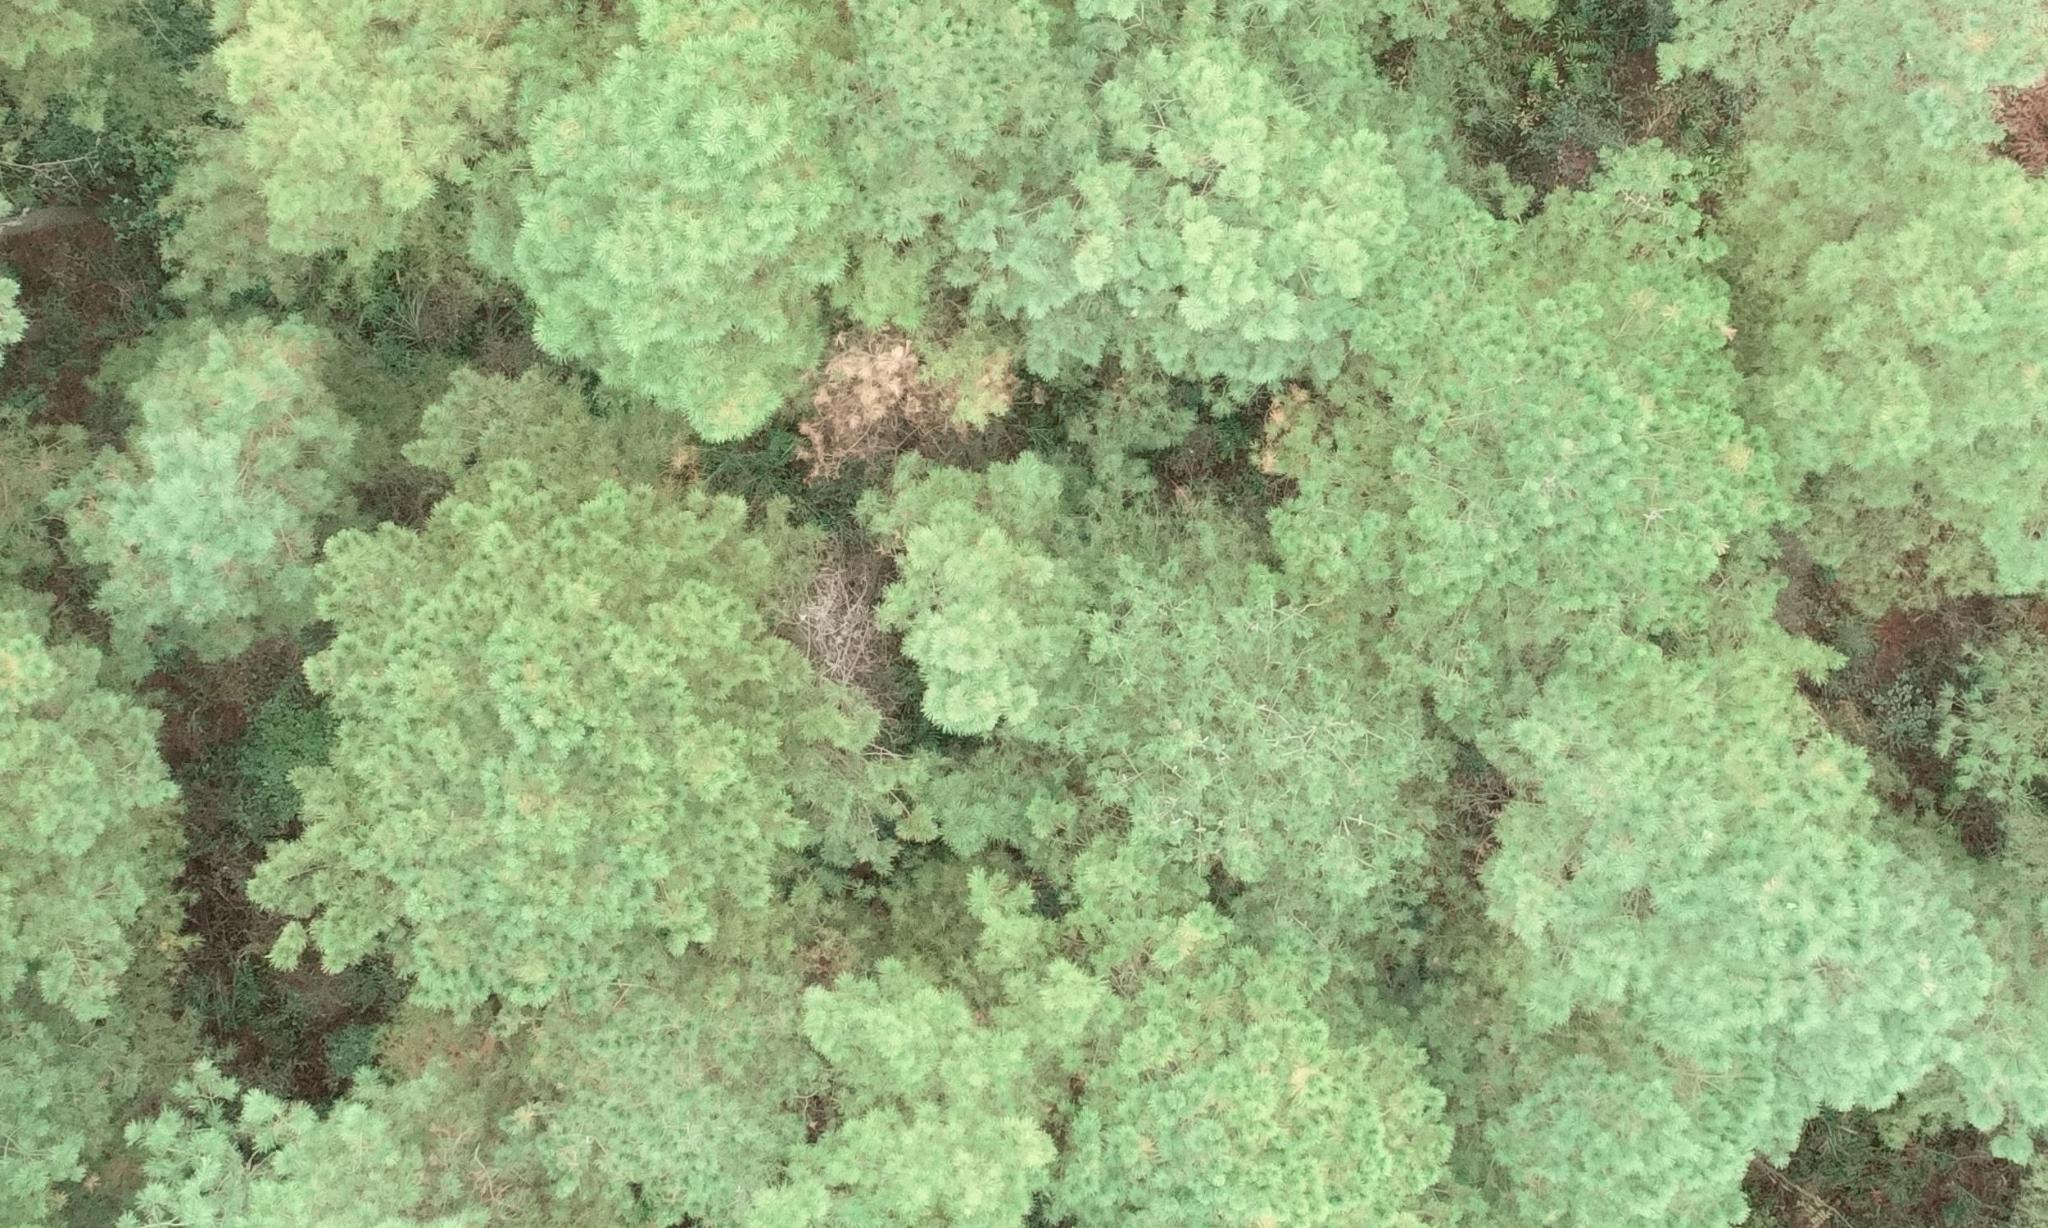heavy: (776, 319, 933, 481)
